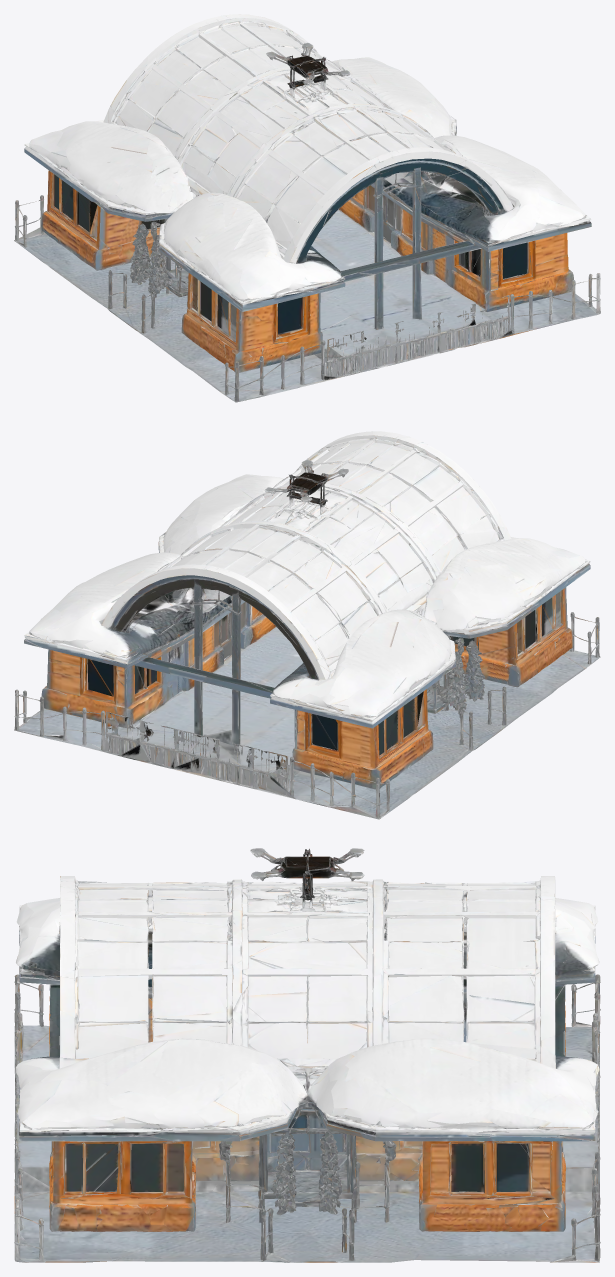
The model's file is gondola_terminal.glb.
The picture shows the model from 3 angles, top to bottom: view 1: azimuth 30°, elevation 25°; view 2: azimuth 150°, elevation 25°; view 3: azimuth 270°, elevation 25°; orthographic projection. The views are drawn at different scales.
Size of the model in its own units: 1.81 by 1.02 by 1.9.
Materials: 1 (1 with a texture image).
